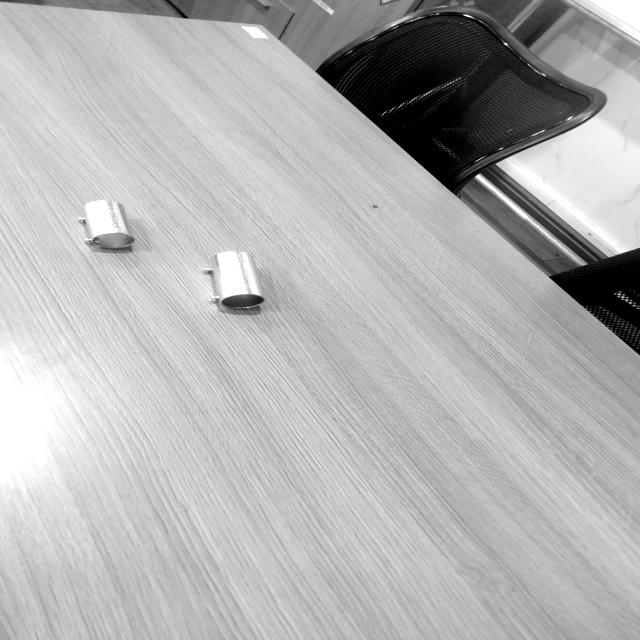Co_Lon: (202, 246, 265, 317)
Co_Nho: (77, 194, 137, 259)
